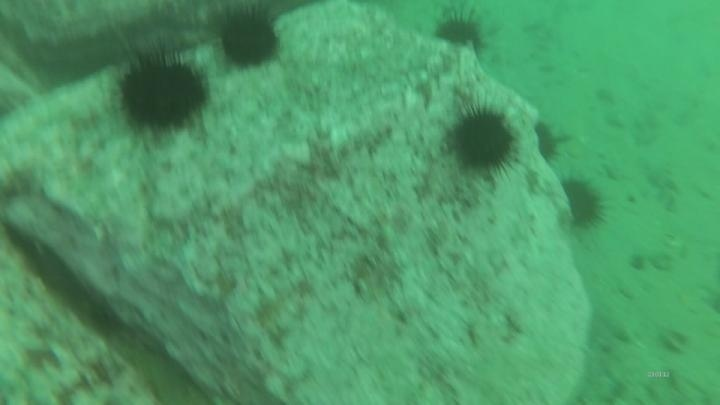echinus: (115, 48, 211, 136), (444, 101, 521, 179), (213, 5, 284, 73), (558, 175, 608, 231), (432, 8, 489, 52), (531, 120, 564, 165)
